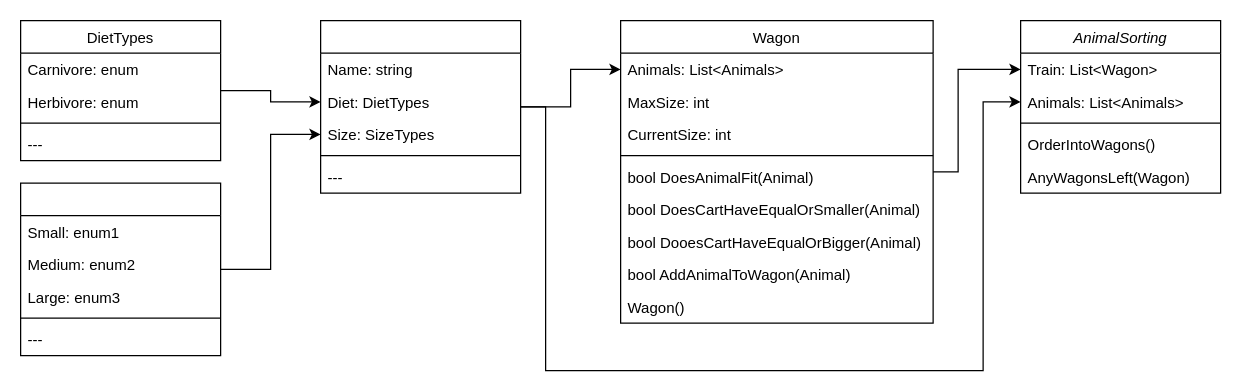
Some shapes in this 1241 by 391 pixel diagram are drawn without their labels. The box of each missing label's shape, as (x1, y1, x2, y2) in pixels:
Animal: (319, 19, 521, 193)
SizeTypes: (19, 182, 221, 356)
